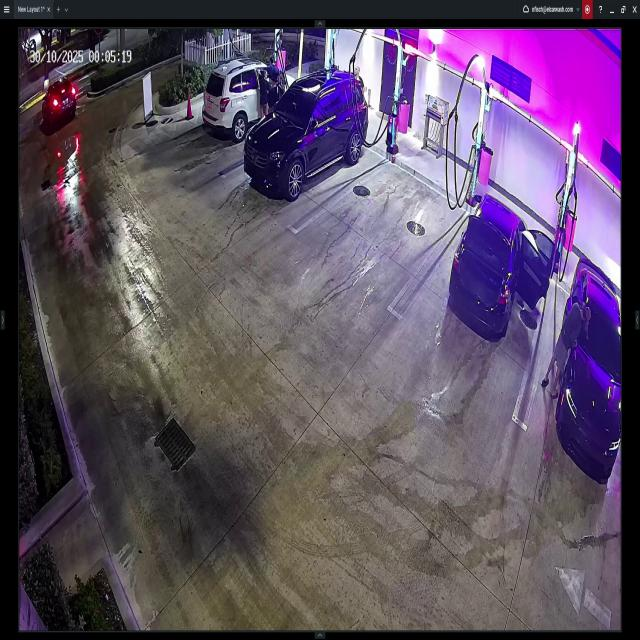Car: (448, 194, 558, 342), (245, 72, 368, 200), (554, 252, 622, 473), (199, 59, 295, 140), (40, 78, 78, 124)
